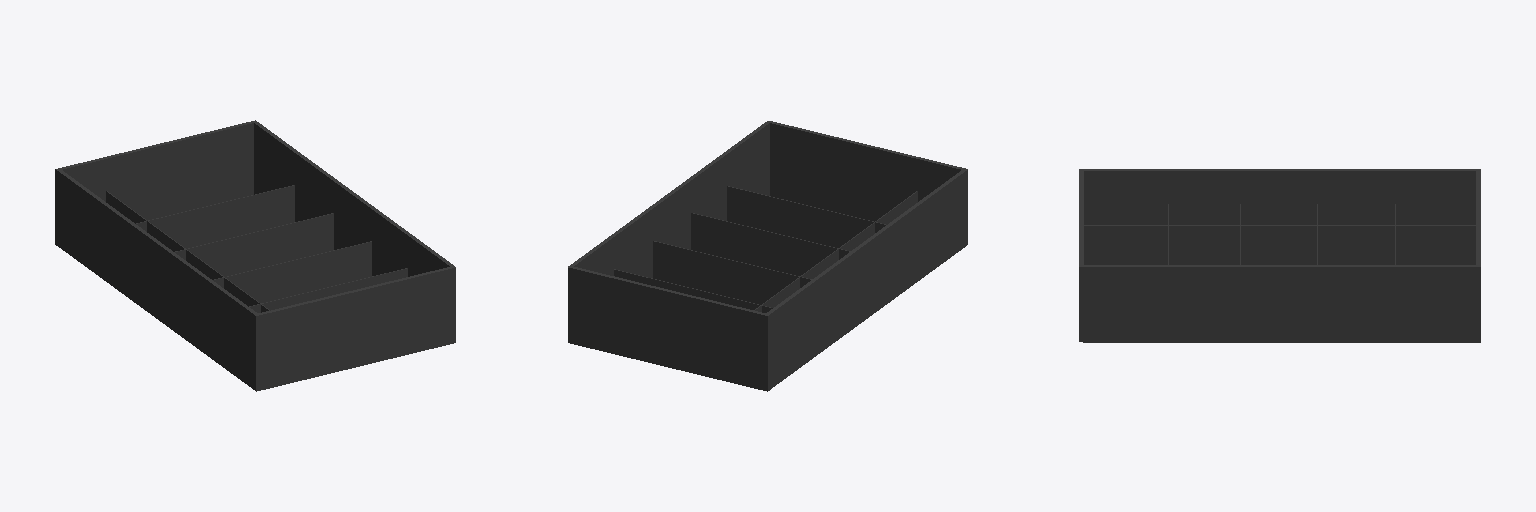
File: Cash_Register_Drawer.obj
3 views of the same model, side by side, from view 1: azimuth 30°, elevation 25°; view 2: azimuth 150°, elevation 25°; view 3: azimuth 270°, elevation 25° (orthographic).
Visible parts, largest first — view 1: cash_register_drawer; view 2: cash_register_drawer; view 3: cash_register_drawer.
Boxes of the visible parts, x1=… form: cash_register_drawer: x1=55, y1=120, x2=455, y2=391; cash_register_drawer: x1=568, y1=121, x2=967, y2=391; cash_register_drawer: x1=1079, y1=169, x2=1480, y2=342.
Bounding box in the file's own units: 22.77 × 8.21 × 39.52.